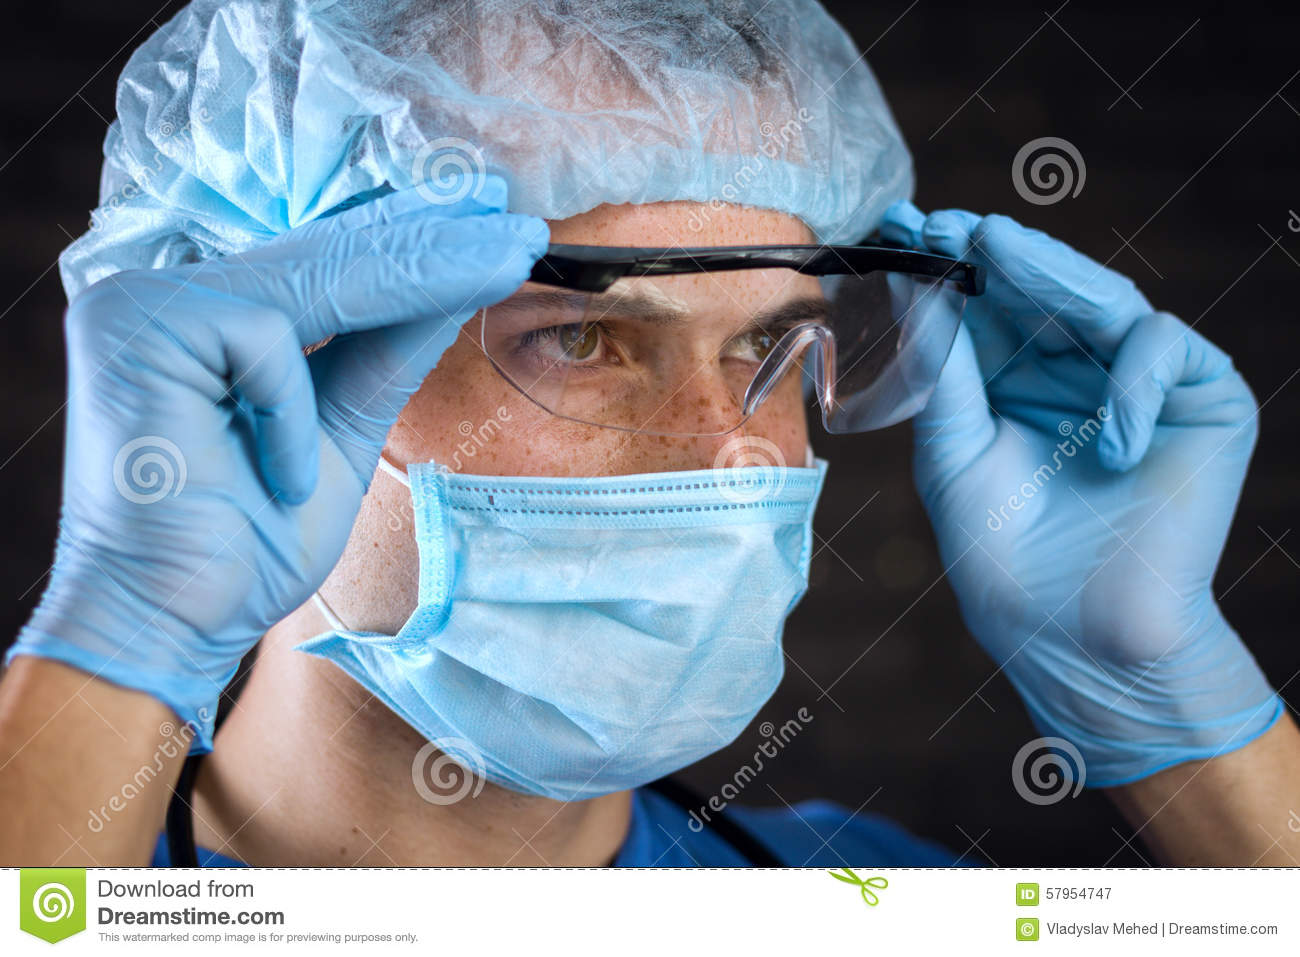mask: (319, 463, 825, 791)
